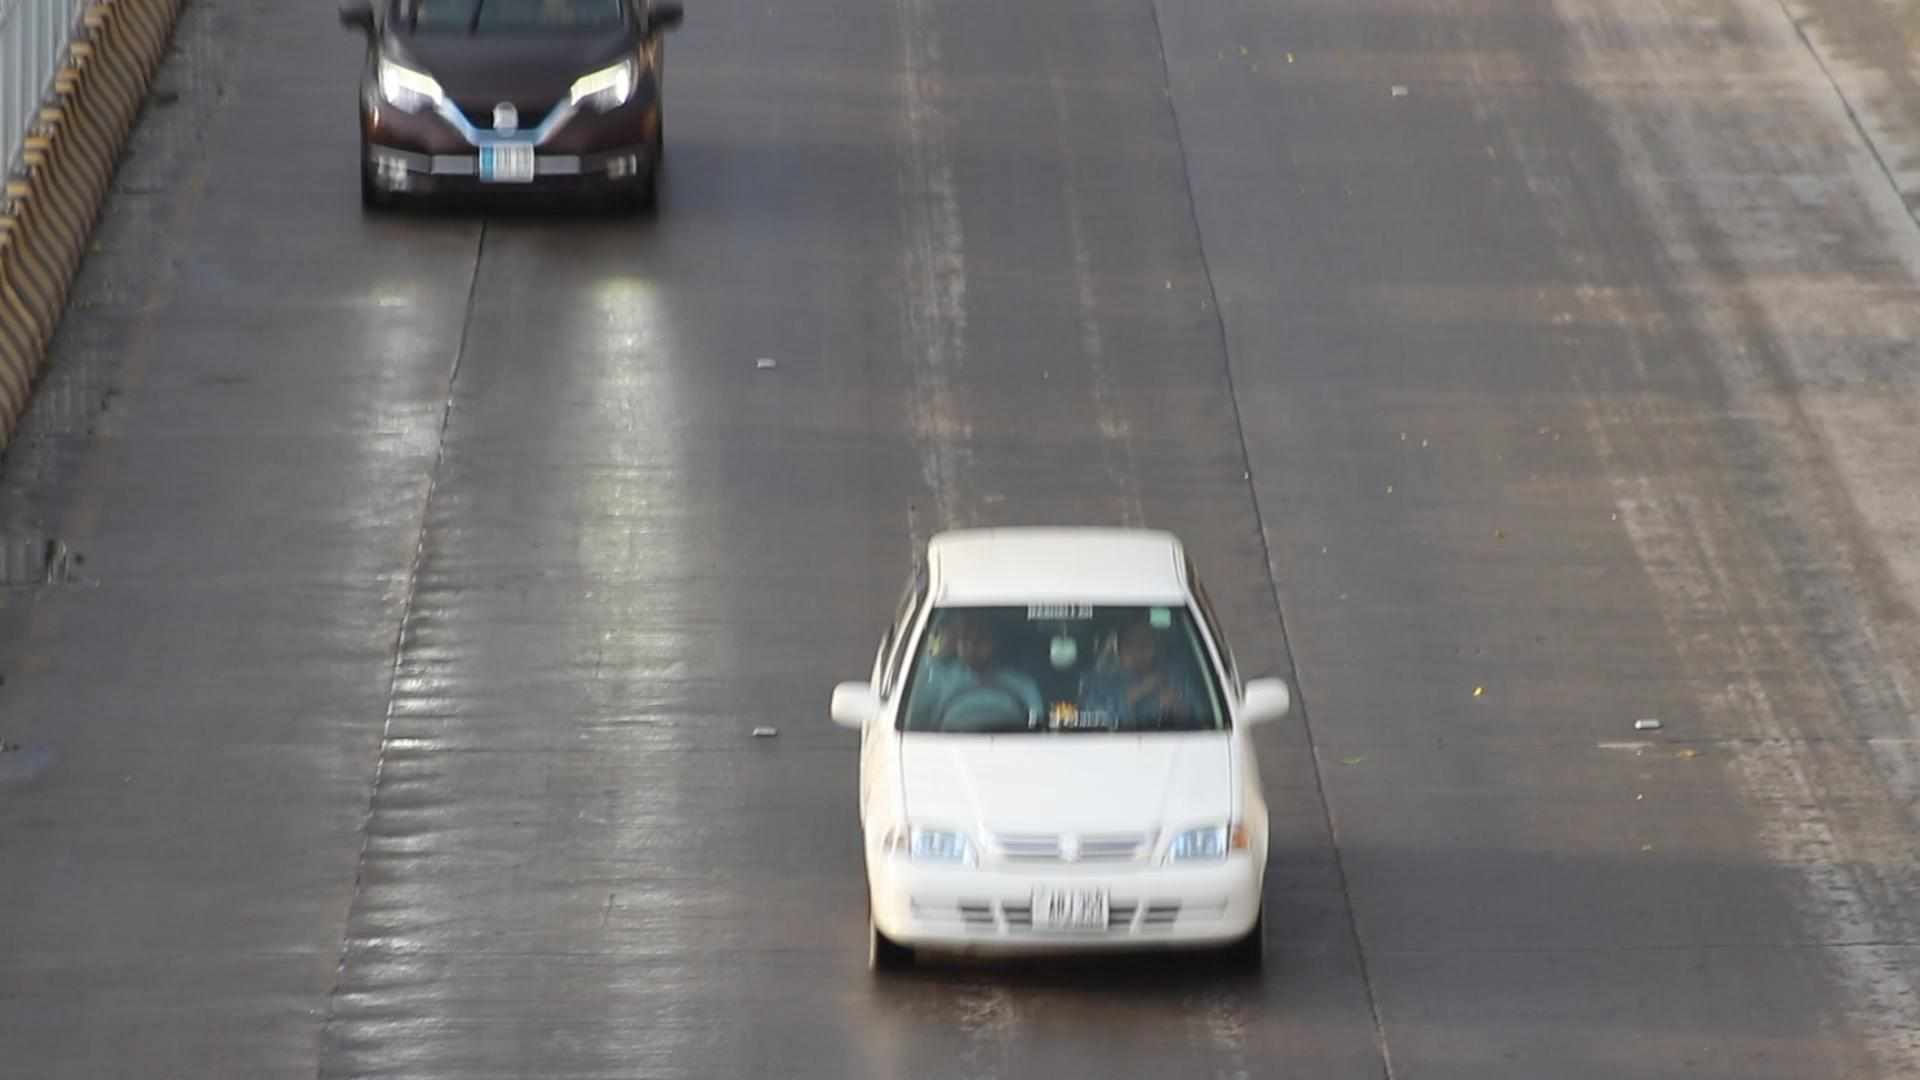windshield: (884, 587, 1250, 744)
